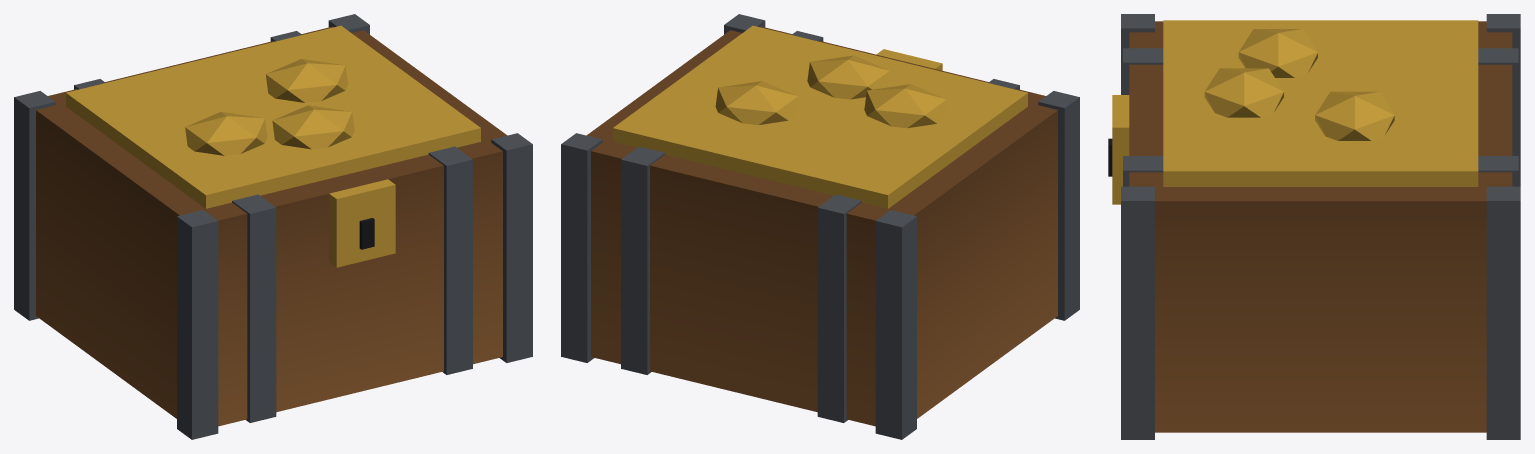
The model's file is Chest_Base.glb.
3 views of the same model, side by side, from view 1: azimuth 30°, elevation 25°; view 2: azimuth 150°, elevation 25°; view 3: azimuth 270°, elevation 25° (orthographic). The views are drawn at different scales.
Visible parts, largest first — view 1: Chest_Base; view 2: Chest_Base; view 3: Chest_Base.
Part boxes in pixels (x1,y1,x2,y2): Chest_Base: [14, 14, 532, 439]; Chest_Base: [561, 14, 1079, 439]; Chest_Base: [1108, 14, 1520, 439].
Size of the model in its own units: 1.04 by 0.72 by 0.97.
